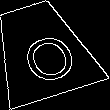O_N: (8, 19, 75, 82)
